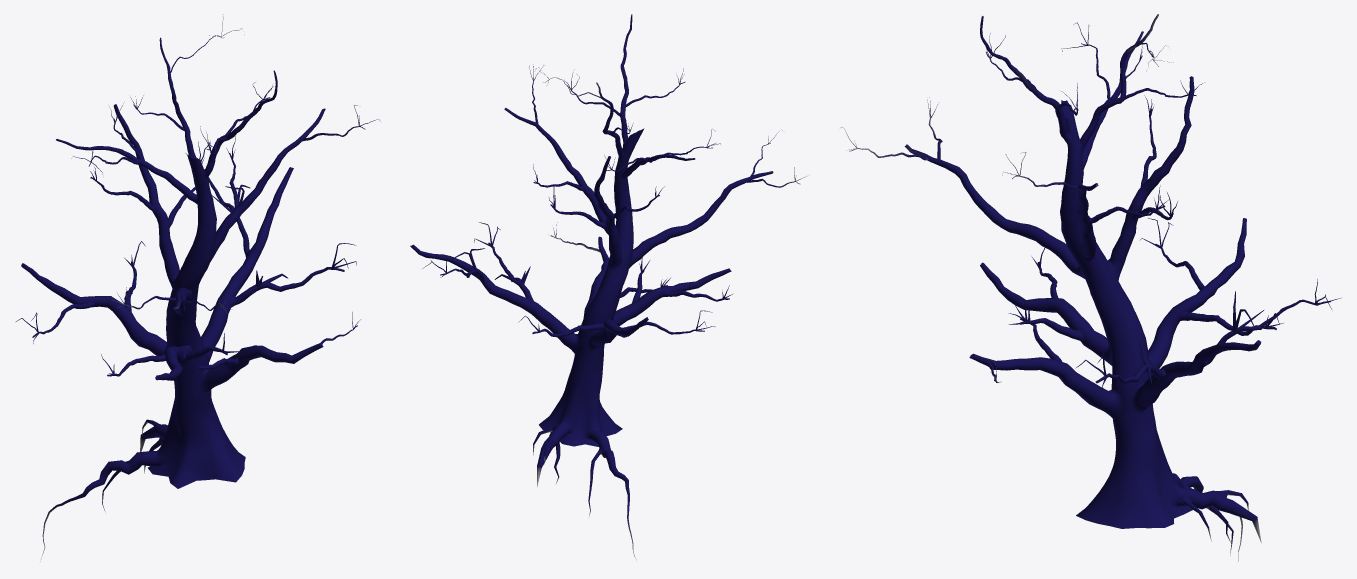
The model's file is BigTreeHigh.obj.
3 views of the same model, side by side, from view 1: azimuth 30°, elevation 25°; view 2: azimuth 150°, elevation 25°; view 3: azimuth 270°, elevation 25° (orthographic). The views are drawn at different scales.
Parts seen in each view (by area): view 1: TreeLois; view 2: TreeLois; view 3: TreeLois.
Boxes of the visible parts, x1,y1,x2,y2 form: TreeLois: (16, 14, 379, 561); TreeLois: (410, 14, 806, 559); TreeLois: (841, 14, 1340, 561).
Size of the model in its own units: 8.97 by 14.16 by 10.5.
